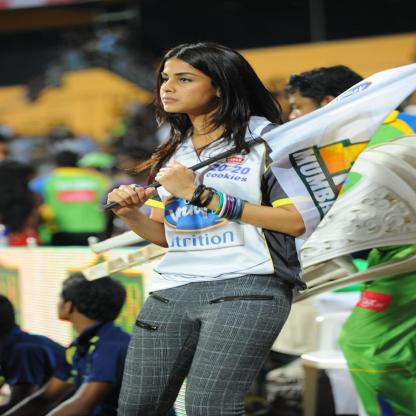face: (158, 61, 215, 112), (286, 91, 323, 131)
